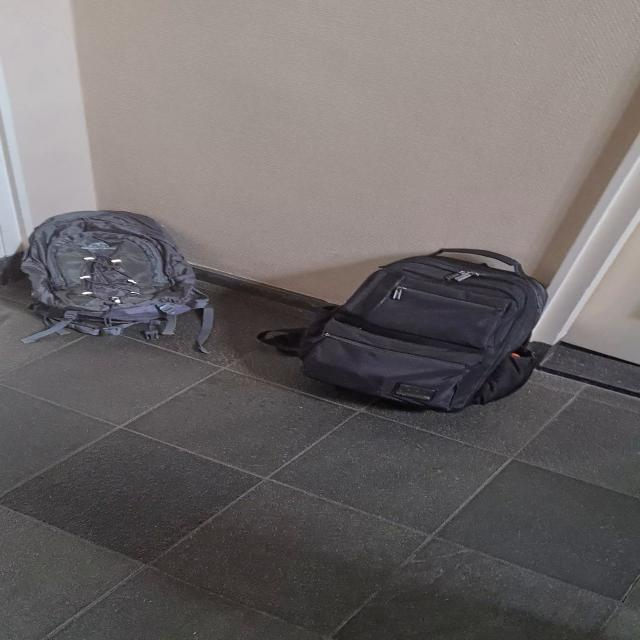backpack: (298, 246, 562, 414), (8, 205, 217, 331)
